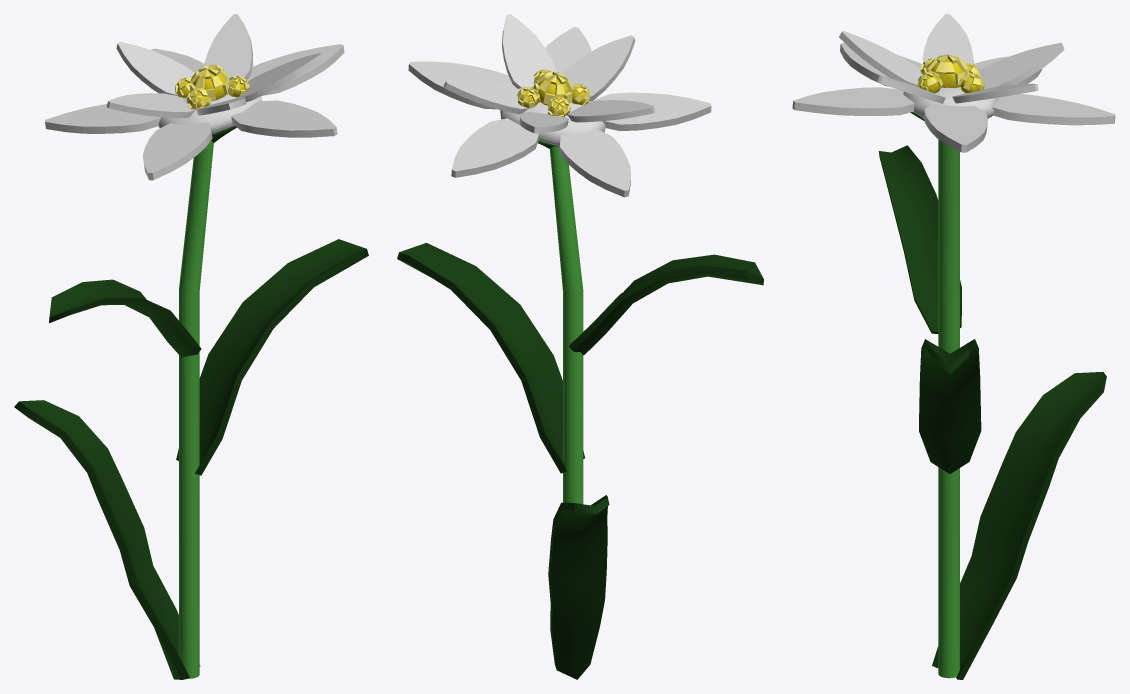
File: edelweissv1.fbx
3 renders of one model, left to right at view 1: azimuth 30°, elevation 25°; view 2: azimuth 150°, elevation 25°; view 3: azimuth 270°, elevation 25°, orthographic. The views are drawn at different scales.
Parts seen in each view (by area): view 1: edelweiss; view 2: edelweiss; view 3: edelweiss.
Boxes of the visible parts, box(x1,y1,x2,y2) form: edelweiss: box(14, 14, 368, 679); edelweiss: box(397, 14, 763, 679); edelweiss: box(792, 14, 1115, 679).
Bounding box in the file's own units: 0.5021 × 0.8655 × 0.3873.
